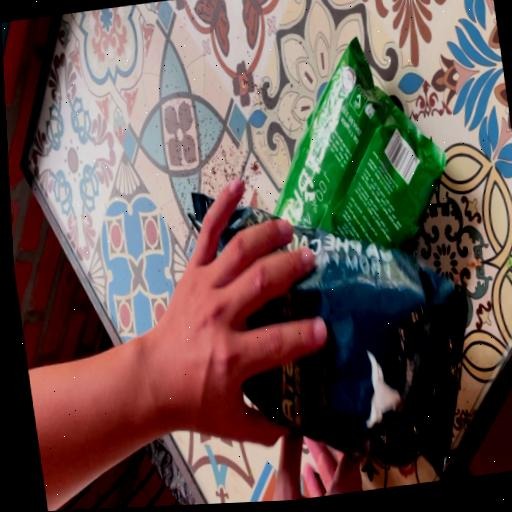cafe_hat: (243, 225, 469, 469), (219, 205, 278, 247), (189, 192, 215, 230)
cafe_xay: (275, 37, 446, 250)
